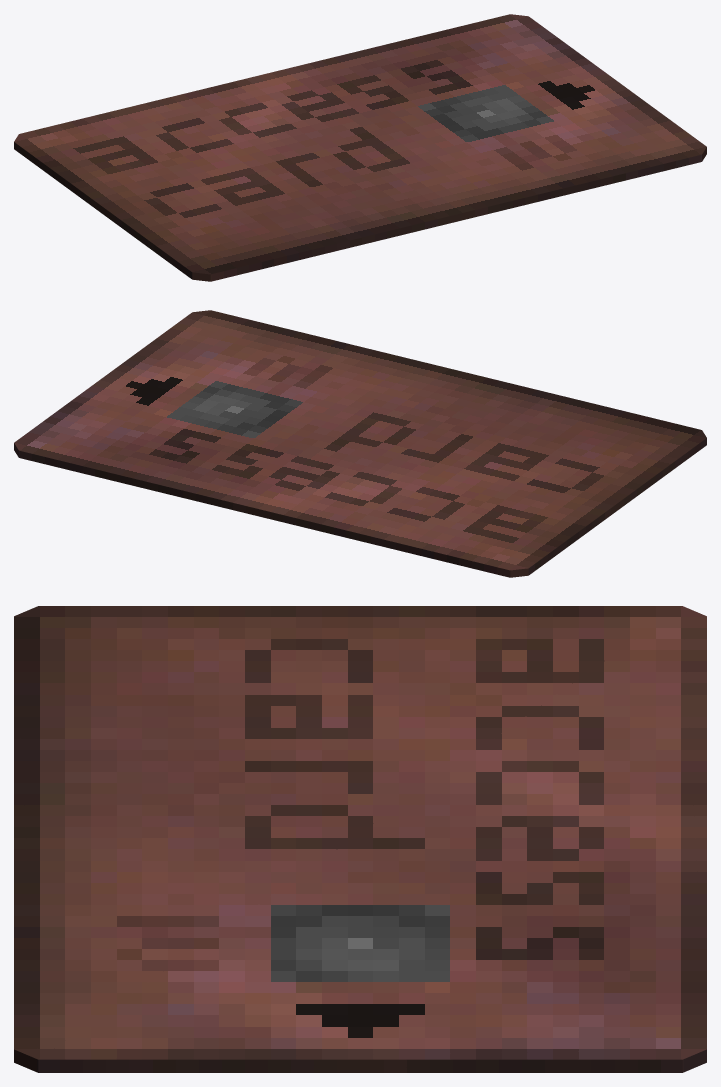
The model's file is keycard_1_authorization_level_4.glb.
3 views of the same model, one above another, from view 1: azimuth 30°, elevation 25°; view 2: azimuth 150°, elevation 25°; view 3: azimuth 270°, elevation 25° (orthographic). The views are drawn at different scales.
Parts seen in each view (by area): view 1: keycard_1_authorization_level_4; view 2: keycard_1_authorization_level_4; view 3: keycard_1_authorization_level_4.
Part boxes in pixels (left/top/right/bottom): keycard_1_authorization_level_4: left=14, top=14, right=706, bottom=281; keycard_1_authorization_level_4: left=14, top=310, right=706, bottom=577; keycard_1_authorization_level_4: left=14, top=606, right=706, bottom=1072.
Bounding box in the file's own units: 0.132 × 0.0018 × 0.0852.
1 material, 1 textured.
